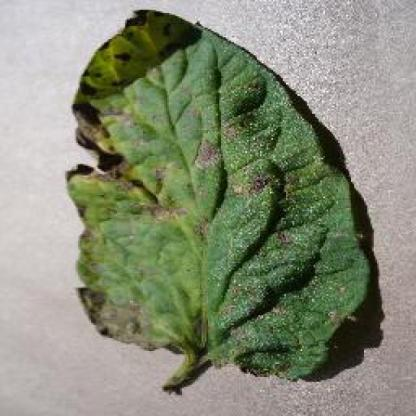Tomato_Blight: (65, 10, 370, 379)
